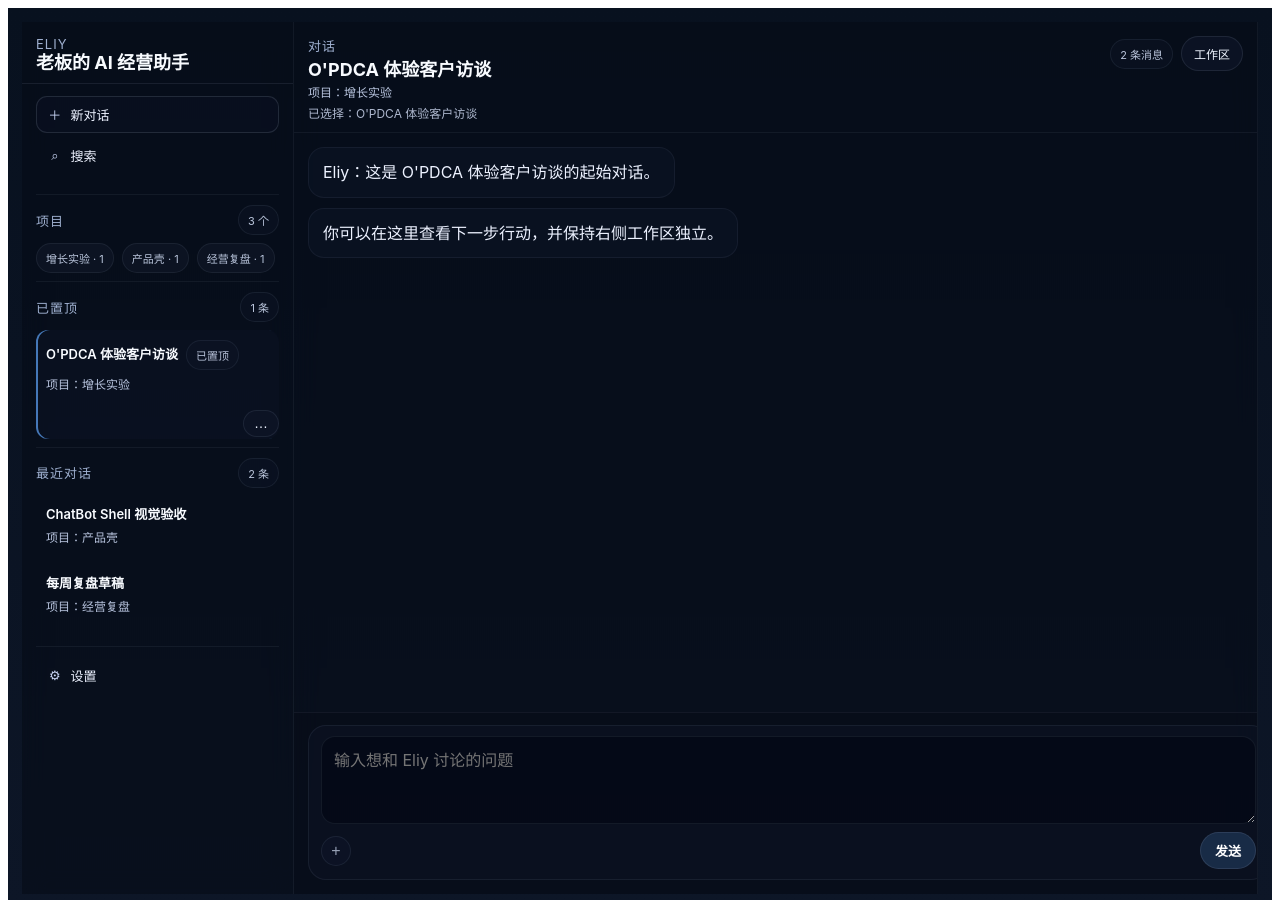
Test case: AssistantUiChatbotShell › opens and closes the workspace from the chat header toggle
Step 1. Click the button with test id "workspace-toggle" → (1212,54), box [1181,36,1243,71]
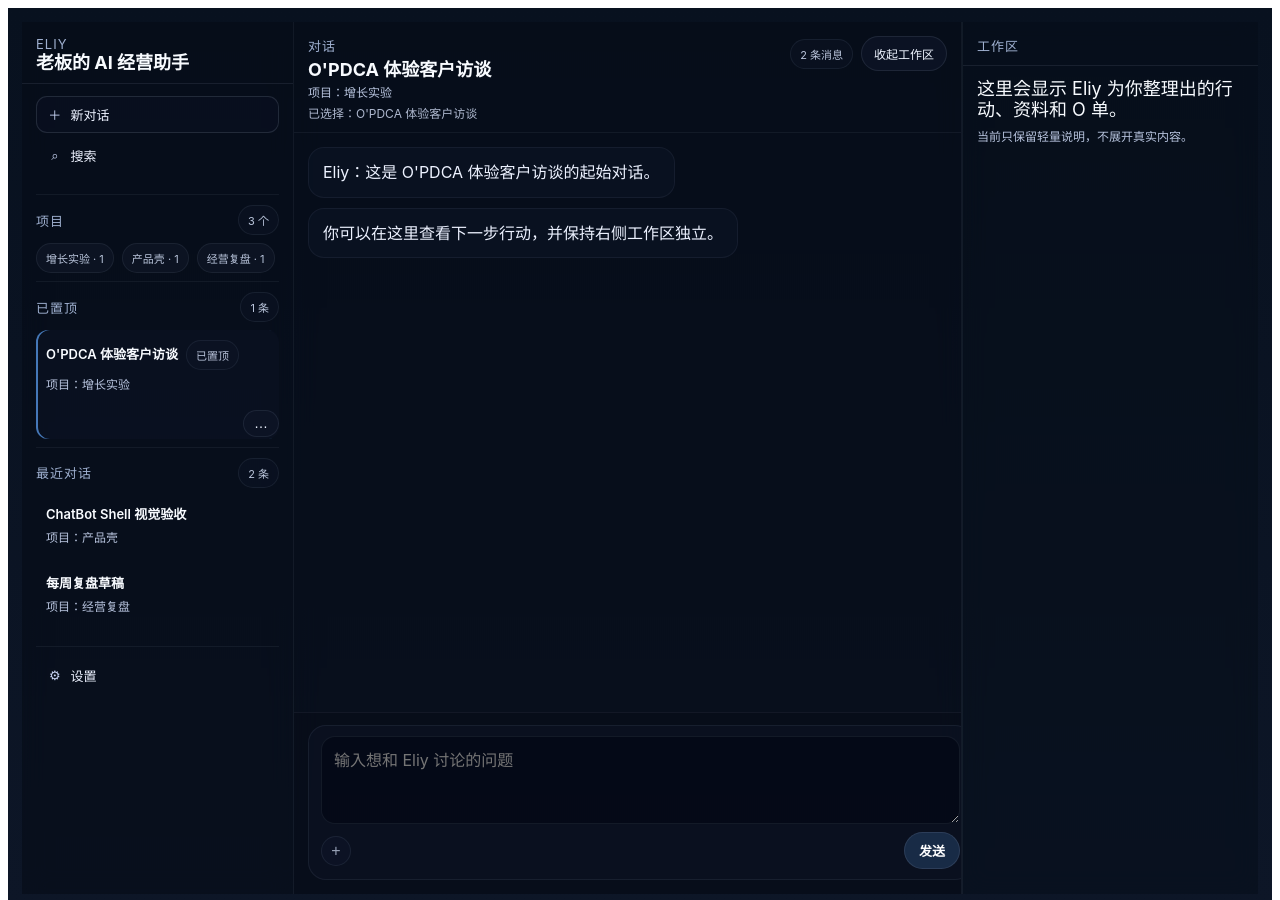
Check: the button with test id "workspace-toggle" reads "收起工作区"
Check: the element with test id "artifact-workspace" is shown, box [962,22,1258,894]
Check: the element with test id "otunit-workspace" is shown, box [963,66,1258,160]
Step 2. Click the button with test id "workspace-toggle" → (904,54), box [861,36,947,71]
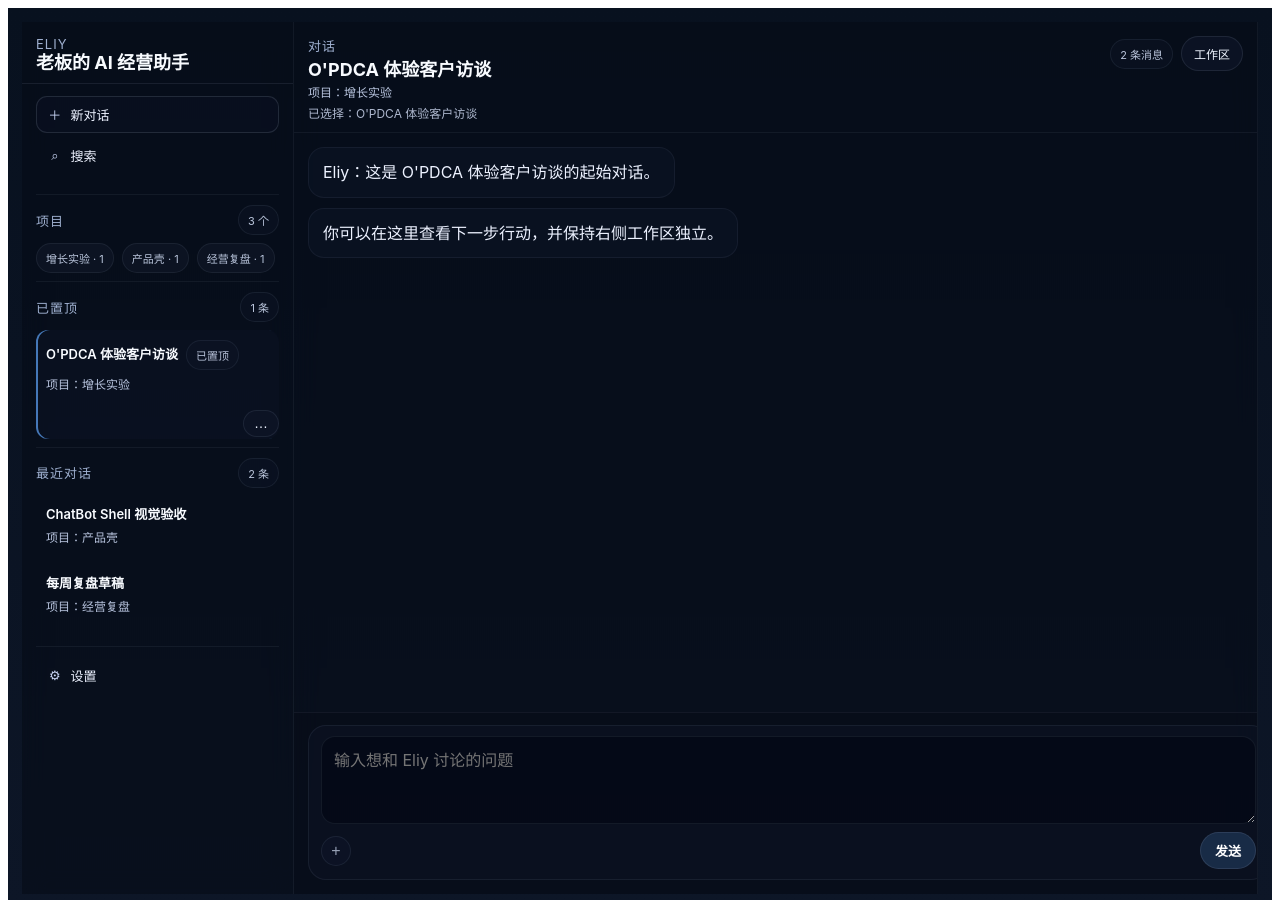
Check: the button with test id "workspace-toggle" reads "工作区", box [1181,36,1243,71]
Check: the element with test id "artifact-workspace" is gone
